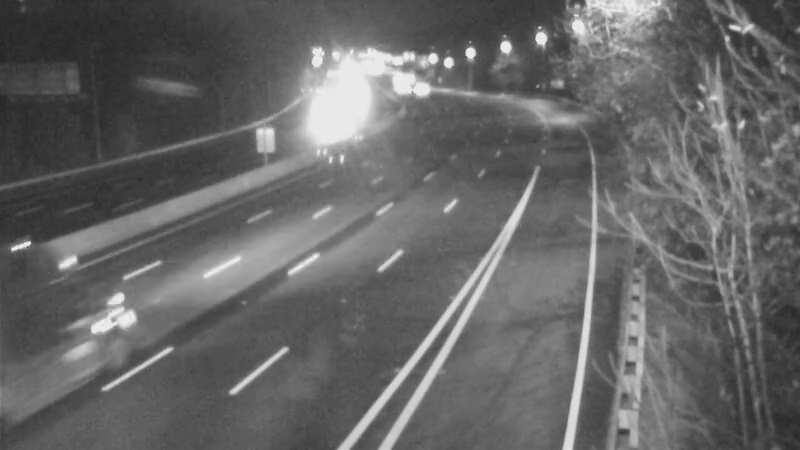vehicle: (13, 272, 123, 382)
